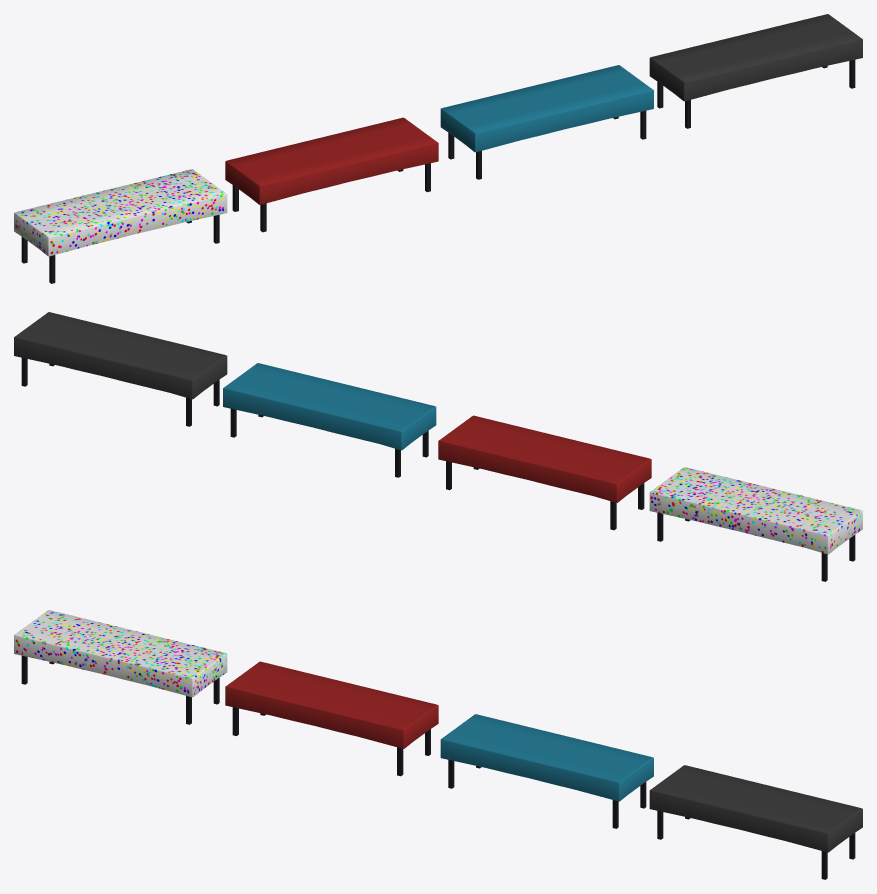
File: PartyTablesSingleSet1.fbx
3 views of the same model, one above another, from view 1: azimuth 30°, elevation 25°; view 2: azimuth 150°, elevation 25°; view 3: azimuth 330°, elevation 25° (orthographic).
Parts seen in each view (by area): view 1: PartyTableWhite, PartyTableBlue, PartyTableBlack, PartyTableRed; view 2: PartyTableWhite, PartyTableBlue, PartyTableRed, PartyTableBlack; view 3: PartyTableBlue, PartyTableBlack, PartyTableRed, PartyTableWhite.
Part boxes in pixels (left/top/right/bottom): PartyTableWhite: left=14, top=169, right=227, bottom=283; PartyTableBlue: left=440, top=65, right=653, bottom=179; PartyTableBlack: left=649, top=14, right=862, bottom=128; PartyTableRed: left=225, top=117, right=438, bottom=232; PartyTableWhite: left=649, top=467, right=862, bottom=581; PartyTableBlue: left=223, top=363, right=436, bottom=477; PartyTableRed: left=438, top=415, right=651, bottom=530; PartyTableBlack: left=14, top=312, right=227, bottom=426; PartyTableBlue: left=440, top=714, right=653, bottom=828; PartyTableBlack: left=649, top=765, right=862, bottom=879; PartyTableRed: left=225, top=661, right=438, bottom=776; PartyTableWhite: left=14, top=610, right=227, bottom=724.
Bounding box in the file's own units: 131 × 9.72 × 7.59.
